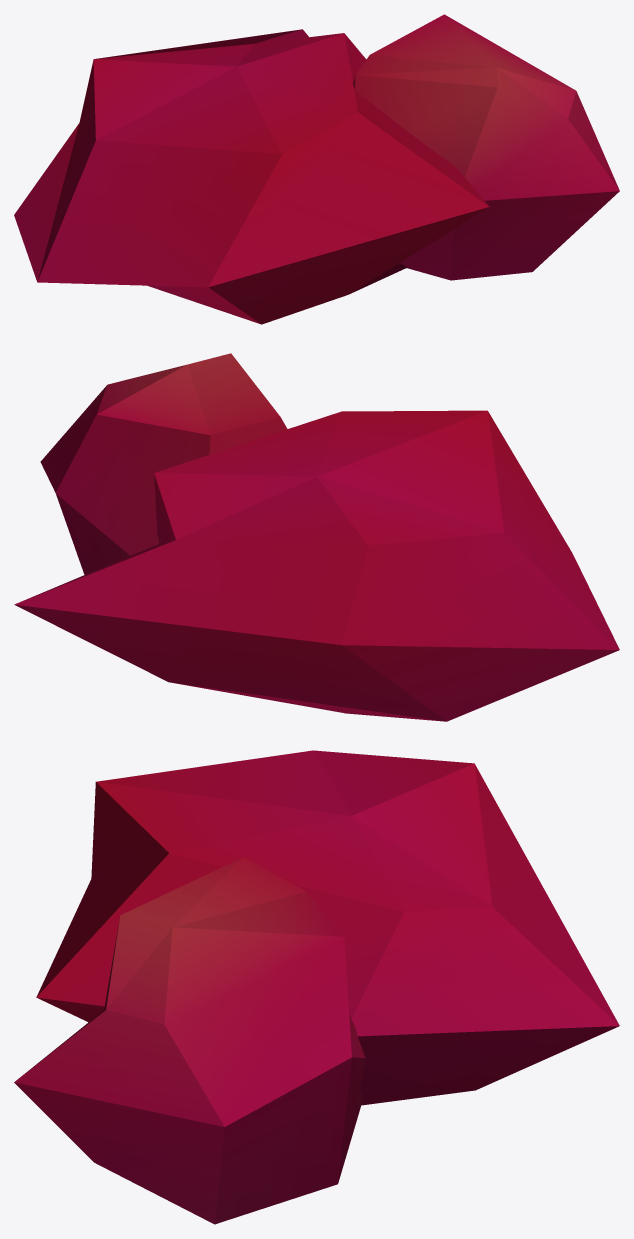
Rendered from Rock_Desert_Medium_01.glb.
3 views of the same model, one above another, from view 1: azimuth 30°, elevation 25°; view 2: azimuth 150°, elevation 25°; view 3: azimuth 270°, elevation 25° (orthographic). The views are drawn at different scales.
Parts seen in each view (by area): view 1: Rock_Desert_Medium_01; view 2: Rock_Desert_Medium_01; view 3: Rock_Desert_Medium_01.
Part boxes in pixels (bbox=[...]): Rock_Desert_Medium_01: bbox=[14, 14, 619, 324]; Rock_Desert_Medium_01: bbox=[14, 353, 619, 721]; Rock_Desert_Medium_01: bbox=[14, 750, 619, 1224].
Bounding box in the file's own units: 2.03 × 0.7767 × 1.55.
